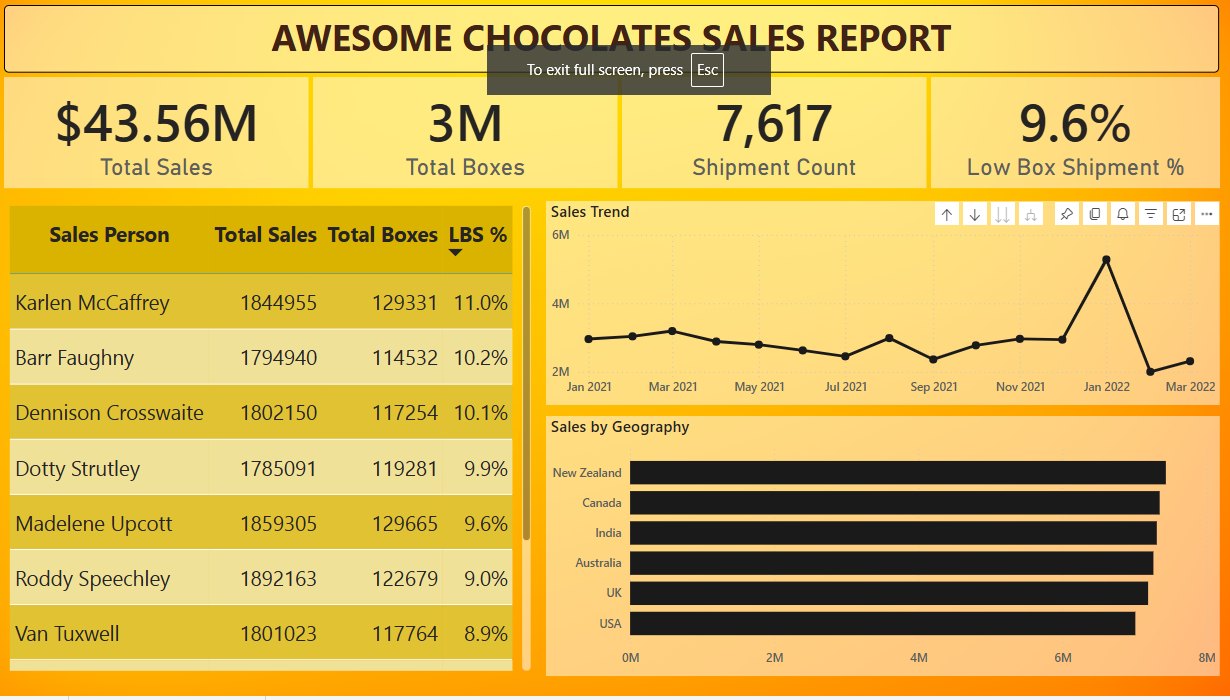

The page's visual inventory and layout, read from the dashboard file:
{"tool":"powerbi","page":{"name":"Sales Report","canvas":[1280,720],"ordinal":0},"visuals":[{"type":"card","fields":{"Values":["sales.Total_sales"]},"box":[10,80,315,115],"z":0},{"type":"card","fields":{"Values":["sales.Total_boxes"]},"box":[330,80,315,115],"z":1000},{"type":"card","fields":{"Values":["sales.Shipment_count"]},"box":[650,80,315,114.6],"z":2000},{"type":"card","fields":{"Values":["sales.Low_box_shipment %"]},"box":[969.5,80,298.8,115],"z":3000},{"type":"clusteredBarChart","title":"Sales by Geography","fields":{"Category":["geo.Geo"],"Y":["sales.Total_sales"]},"box":[571.1,430,697.3,268.9],"z":4000},{"type":"lineChart","title":"Sales Trend","fields":{"Y":["sales.Total_sales"],"Category":["sales.Date.Variation.Date Hierarchy.Year","sales.Date.Variation.Date Hierarchy.Quarter","sales.Date.Variation.Date Hierarchy.Month"]},"box":[571.1,207.5,697.3,210.8],"z":5000},{"type":"tableEx","fields":{"Values":["people.Sales_person","sales.Total_sales","sales.Total_boxes","sales.Low_box_shipment %"]},"box":[10,207.5,549.5,491.4],"z":6000},{"type":"textbox","box":[10,5,1256.8,70],"z":7000}]}

Visuals, with their boxes in screenshot pixels (x1, y1, x2, y2), scaled from the page's 1280x720 canvas onto the 1230x700 screenshot:
card - sales.Total_sales: (10, 78, 312, 190)
card - sales.Total_boxes: (317, 78, 620, 190)
card - sales.Shipment_count: (625, 78, 927, 189)
card - sales.Low_box_shipment %: (932, 78, 1219, 190)
"Sales by Geography" clusteredBarChart: (549, 418, 1219, 679)
"Sales Trend" lineChart: (549, 202, 1219, 407)
tableEx - people.Sales_person x sales.Total_sales: (10, 202, 538, 679)
textbox: (10, 5, 1217, 73)
